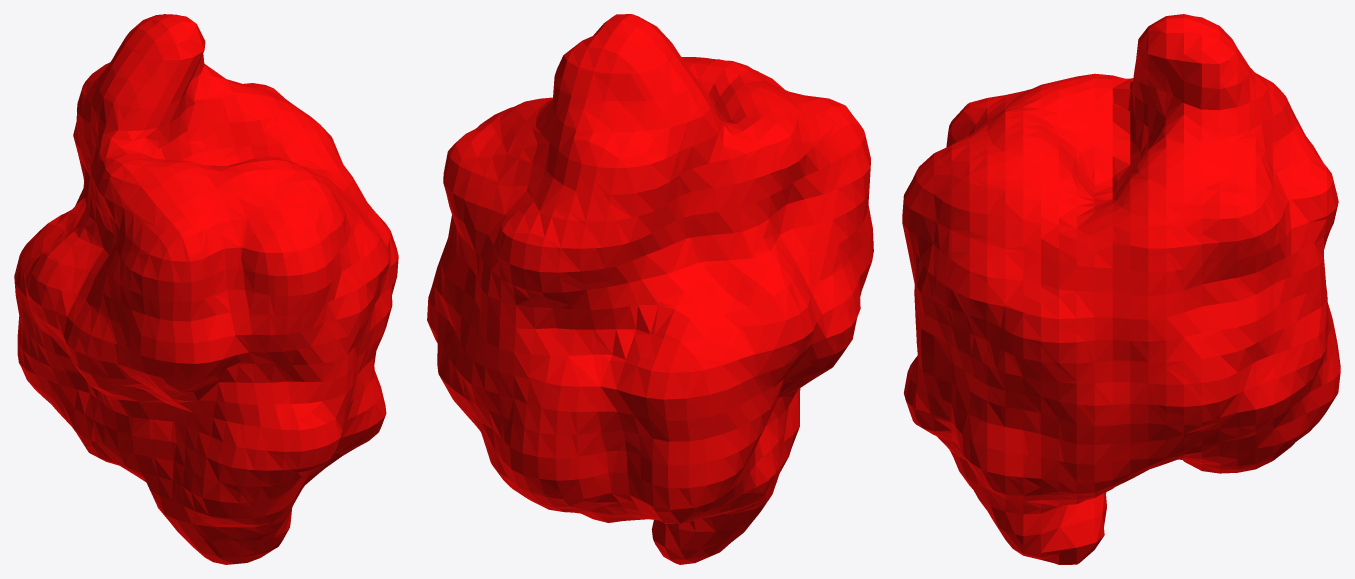
The model's file is nfsA_coarse.dae.
The picture shows the model from 3 angles, left to right: view 1: azimuth 30°, elevation 25°; view 2: azimuth 150°, elevation 25°; view 3: azimuth 270°, elevation 25°; orthographic projection. The views are drawn at different scales.
Visible parts, largest first — view 1: nfsA; view 2: nfsA; view 3: nfsA.
Boxes of the visible parts, box(x1,y1,x2,y2) form: nfsA: box(14, 14, 398, 564); nfsA: box(427, 14, 873, 564); nfsA: box(902, 14, 1340, 564).
Bounding box in the file's own units: 50.94 × 79.59 × 58.13.
